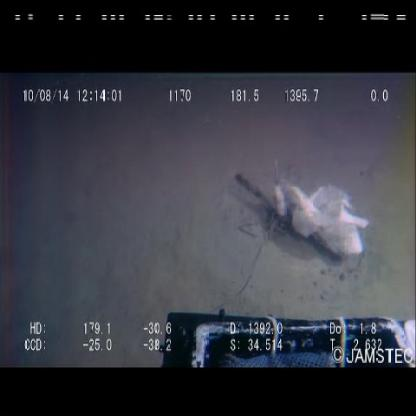Rác: (270, 172, 372, 266)
